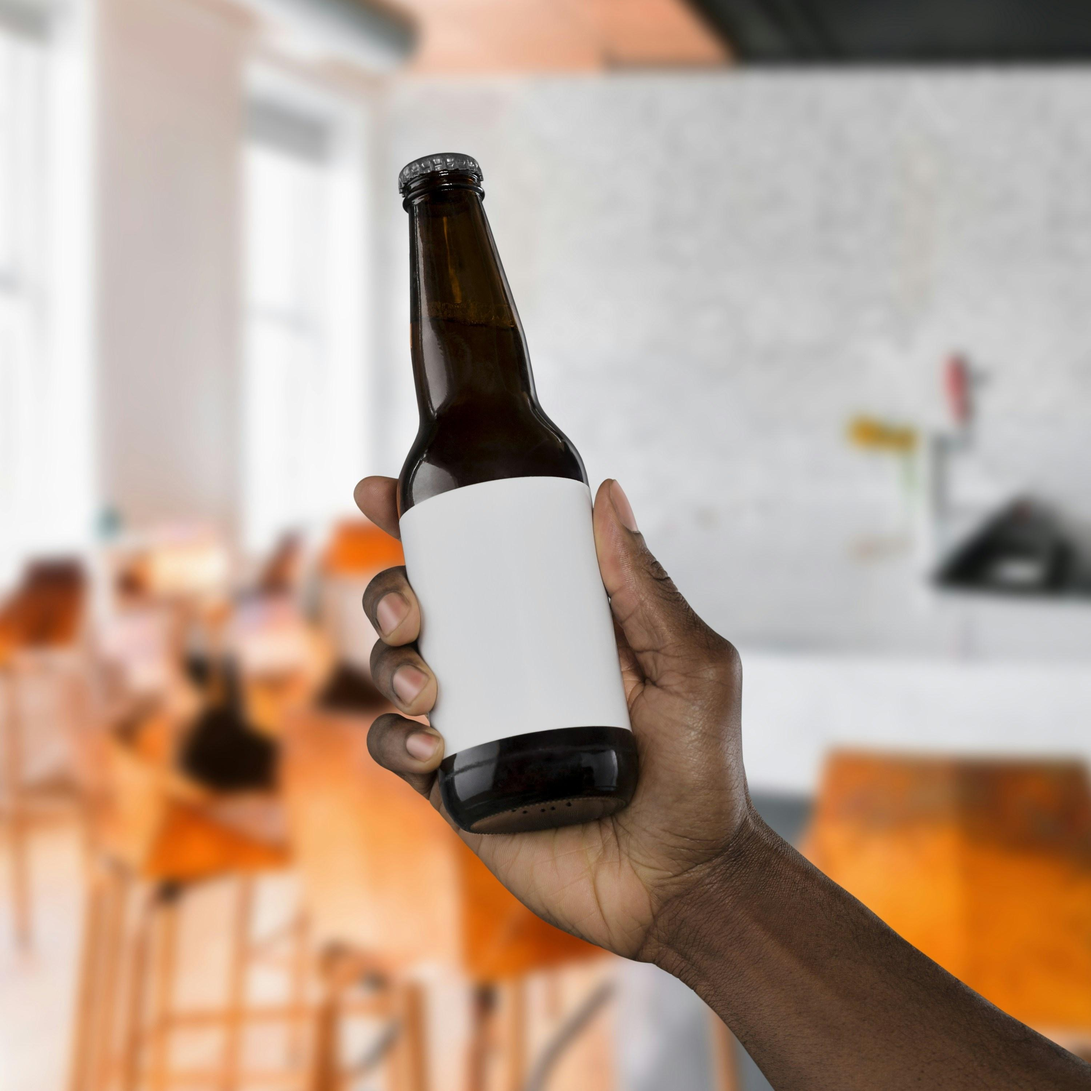Bottle-Detection: (316, 109, 702, 855)
